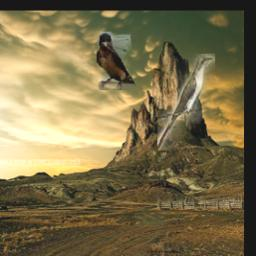Cuckoo: (157, 55, 215, 151)
Swallow: (97, 33, 136, 91)
